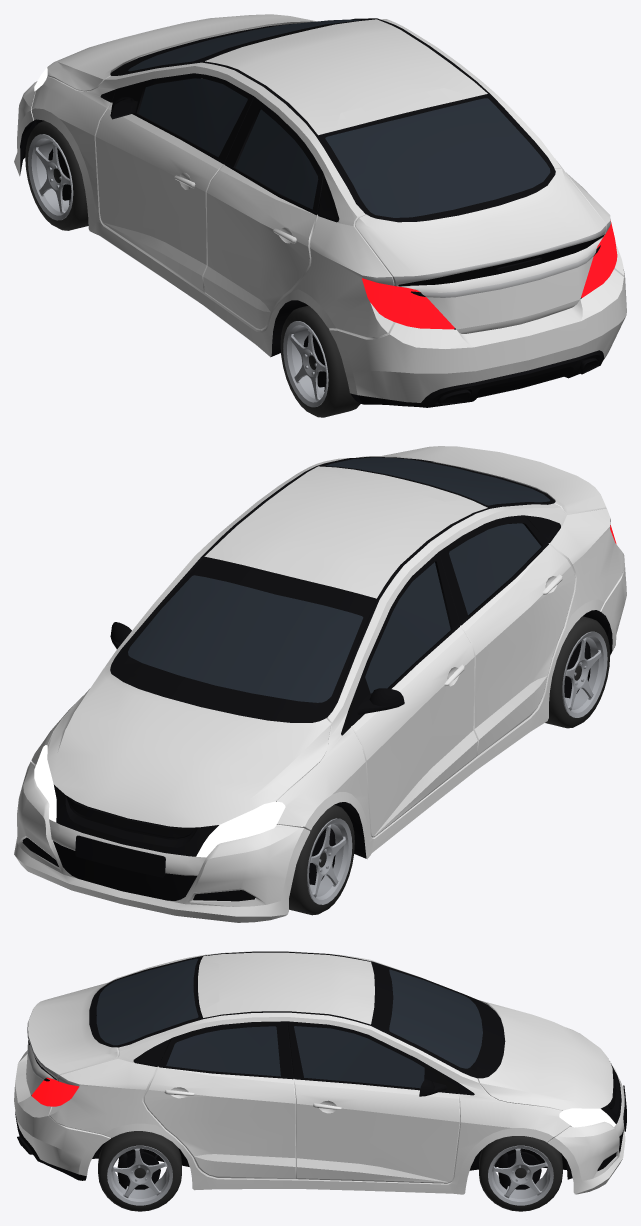
Rendered from sedan_ev.glb.
The picture shows the model from 3 angles, top to bottom: view 1: azimuth 30°, elevation 25°; view 2: azimuth 150°, elevation 25°; view 3: azimuth 270°, elevation 25°; orthographic projection. The views are drawn at different scales.
Visible parts, largest first — view 1: Body, Glass, Bumper_R, Hood, Wheel_RL, Wheel_FL, Lamp_R; view 2: Body, Glass, Hood, Bumper_F, Wheel_RL, Wheel_FL, Lamp_F, Bumper_R, Mirror_L; view 3: Body, Glass, Hood, Wheel_RR, Bumper_R, Wheel_FR, Bumper_F, Lamp_R, Lamp_F.
Part boxes in pixels (left/top/right/bottom): Body: left=19, top=18, right=624, bottom=391; Glass: left=128, top=19, right=550, bottom=217; Bumper_R: left=336, top=276, right=626, bottom=407; Hood: left=43, top=14, right=317, bottom=107; Wheel_RL: left=280, top=305, right=360, bottom=417; Wheel_FL: left=25, top=121, right=88, bottom=230; Lamp_R: left=362, top=220, right=617, bottom=329; Body: left=19, top=446, right=624, bottom=901; Glass: left=128, top=457, right=550, bottom=702; Hood: left=44, top=669, right=352, bottom=811; Bumper_F: left=14, top=799, right=293, bottom=922; Wheel_RL: left=545, top=616, right=610, bottom=728; Wheel_FL: left=289, top=805, right=354, bottom=915; Lamp_F: left=34, top=745, right=285, bottom=857; Bumper_R: left=583, top=553, right=626, bottom=654; Mirror_L: left=357, top=688, right=404, bottom=714; Body: left=26, top=951, right=621, bottom=1194; Glass: left=96, top=958, right=482, bottom=1088; Hood: left=462, top=1001, right=602, bottom=1116; Wheel_RR: left=98, top=1131, right=181, bottom=1211; Bumper_R: left=14, top=1050, right=102, bottom=1180; Wheel_FR: left=479, top=1136, right=562, bottom=1211; Bumper_F: left=566, top=1070, right=626, bottom=1194; Lamp_R: left=31, top=1077, right=79, bottom=1106; Lamp_F: left=559, top=1108, right=615, bottom=1127.
Size of the model in its own units: 1.94 by 1.56 by 4.72.
